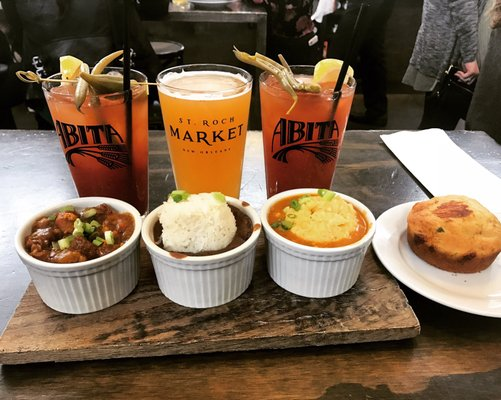pizza: (44, 62, 151, 217), (257, 57, 357, 198), (157, 63, 254, 199), (67, 143, 141, 214)
sushi: (14, 197, 142, 315), (141, 191, 263, 310), (260, 187, 377, 299)
